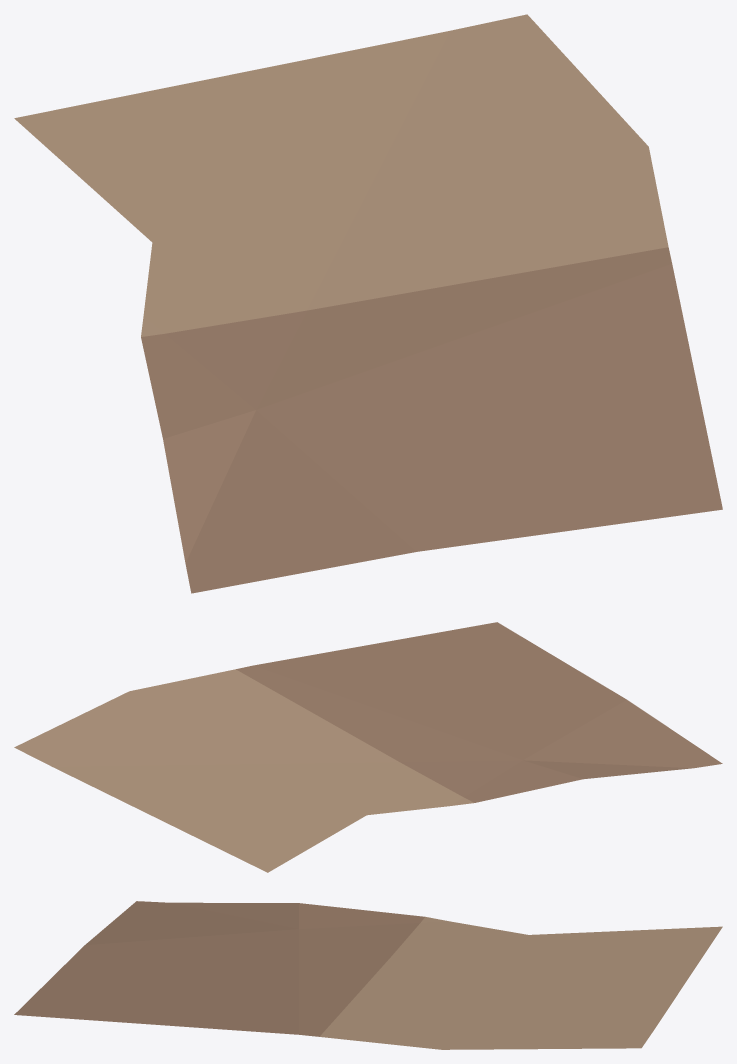
The model's file is farm_16_25_soil.glb.
3 renders of one model, top to bottom at view 1: azimuth 30°, elevation 25°; view 2: azimuth 150°, elevation 25°; view 3: azimuth 270°, elevation 25°, orthographic. The views are drawn at different scales.
Visible parts, largest first — view 1: geometry_0; view 2: geometry_0; view 3: geometry_0.
Boxes of the visible parts, x1,y1,x2,y2 form: geometry_0: (14, 14, 722, 593); geometry_0: (14, 622, 722, 872); geometry_0: (14, 901, 722, 1049).
Size of the model in its own units: 89 by 15.22 by 115.
